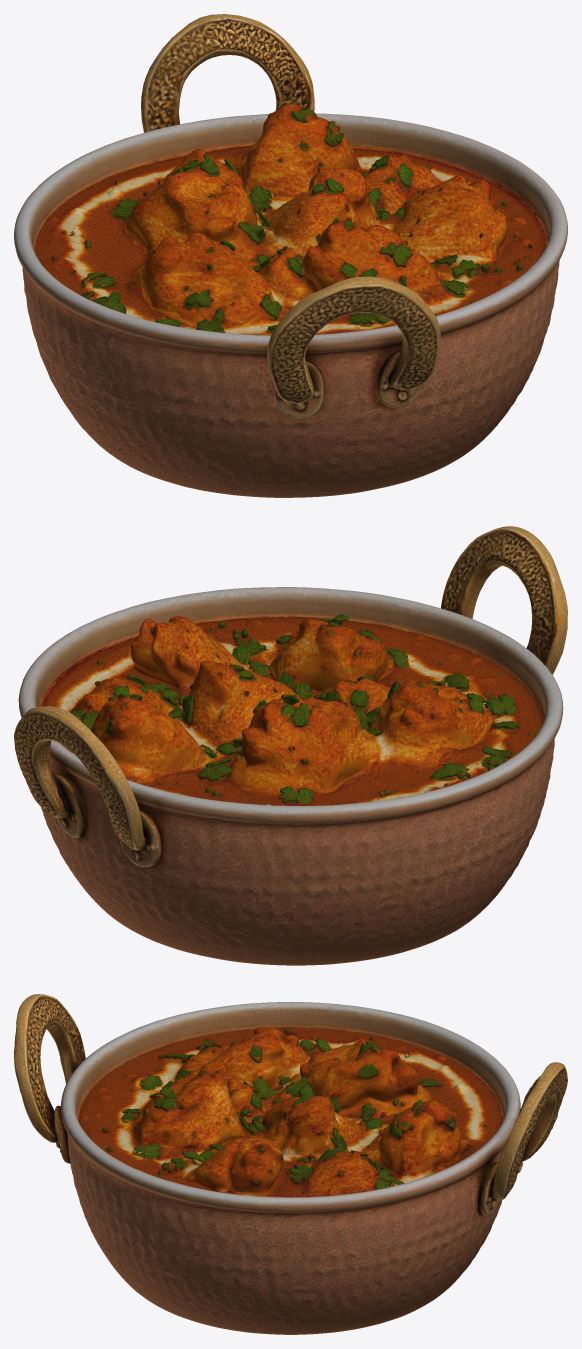
The model's file is butter-chicken-raw.glb.
The picture shows the model from 3 angles, top to bottom: view 1: azimuth 30°, elevation 25°; view 2: azimuth 150°, elevation 25°; view 3: azimuth 270°, elevation 25°; orthographic projection. The views are drawn at different scales.
Parts seen in each view (by area): view 1: tripo_node_61d58be5-8841-496d-bb62-80cf5ccf881e; view 2: tripo_node_61d58be5-8841-496d-bb62-80cf5ccf881e; view 3: tripo_node_61d58be5-8841-496d-bb62-80cf5ccf881e.
Part boxes in pixels (x1=…): tripo_node_61d58be5-8841-496d-bb62-80cf5ccf881e: x1=14, y1=14, x2=567, y2=497; tripo_node_61d58be5-8841-496d-bb62-80cf5ccf881e: x1=14, y1=526, x2=567, y2=965; tripo_node_61d58be5-8841-496d-bb62-80cf5ccf881e: x1=14, y1=994, x2=567, y2=1334.
Bounding box in the file's own units: 0.8593 × 0.456 × 1.
1 material, 1 textured.
